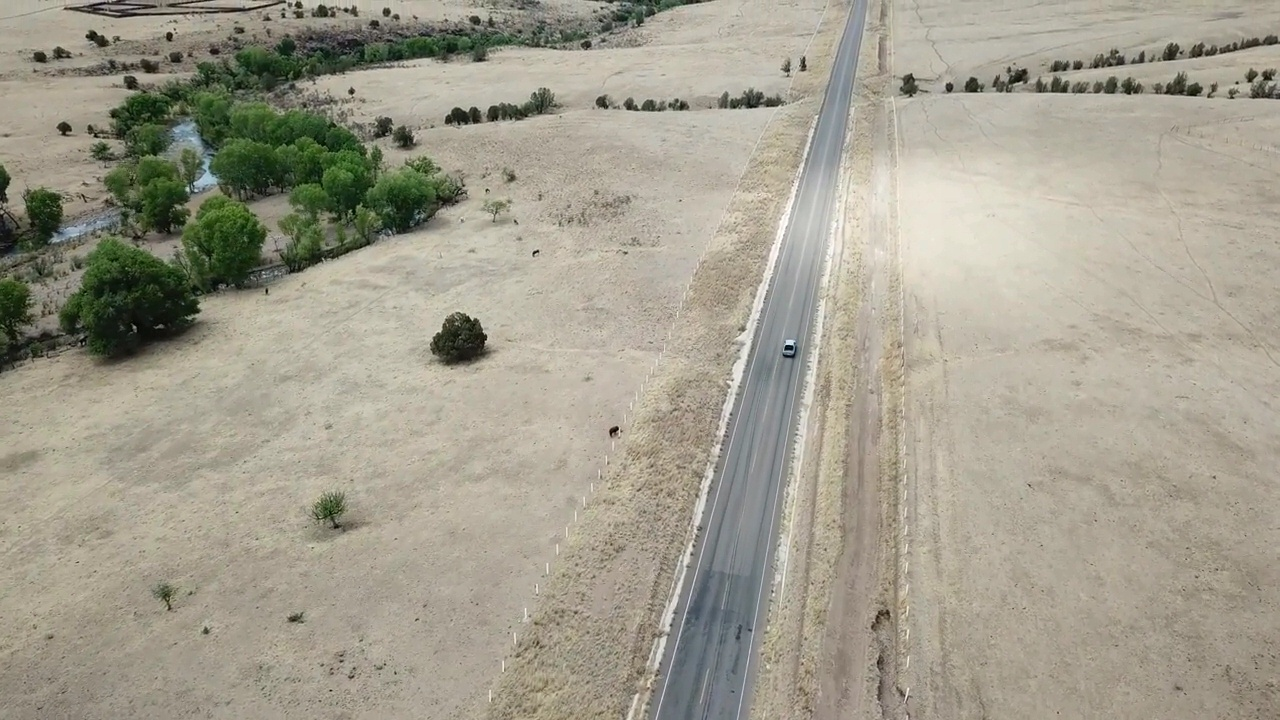araba: (782, 337, 799, 360)
